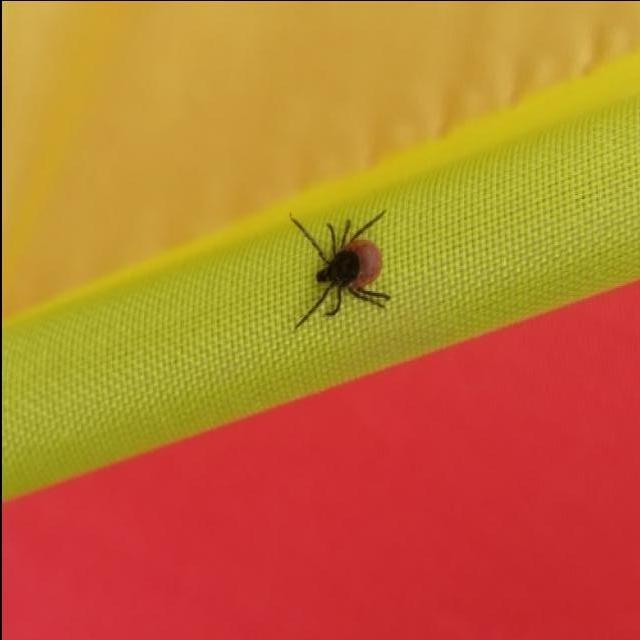Ixodes Ricinus-F: (291, 207, 388, 329)
